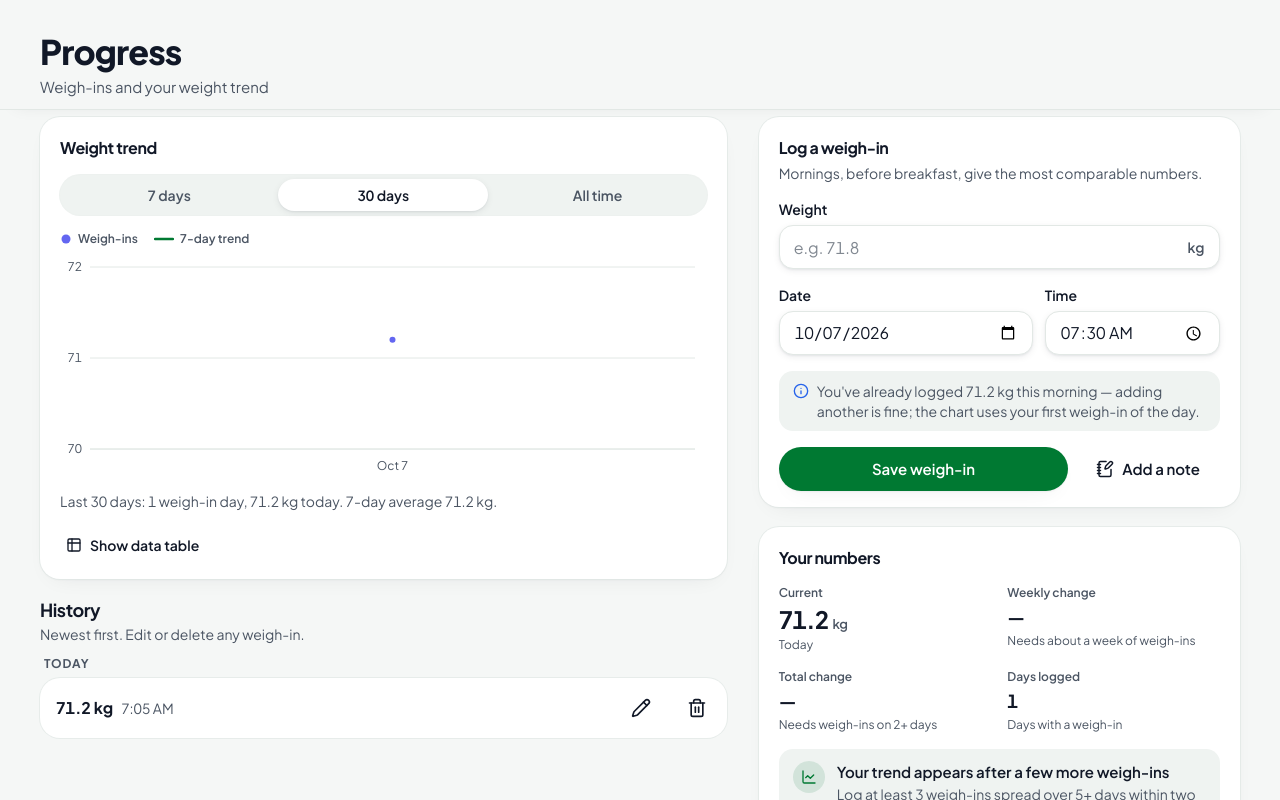
Test: Progress: a second weigh-in on the same day › says so neutrally and marks the weigh-in the chart uses
The image size is (1280, 800).
Check: the heading "Log a weigh-in" is shown, box 779,137 -> 888,158
Check: the text "You've already logged 71.2 kg this morning — adding another is fine; the chart uses your first weigh-in of the day." is shown, box 817,382 -> 1200,420
Type "2026-10-06" into the date field labelled "Date" at (906, 333), box 779,311 -> 1033,355
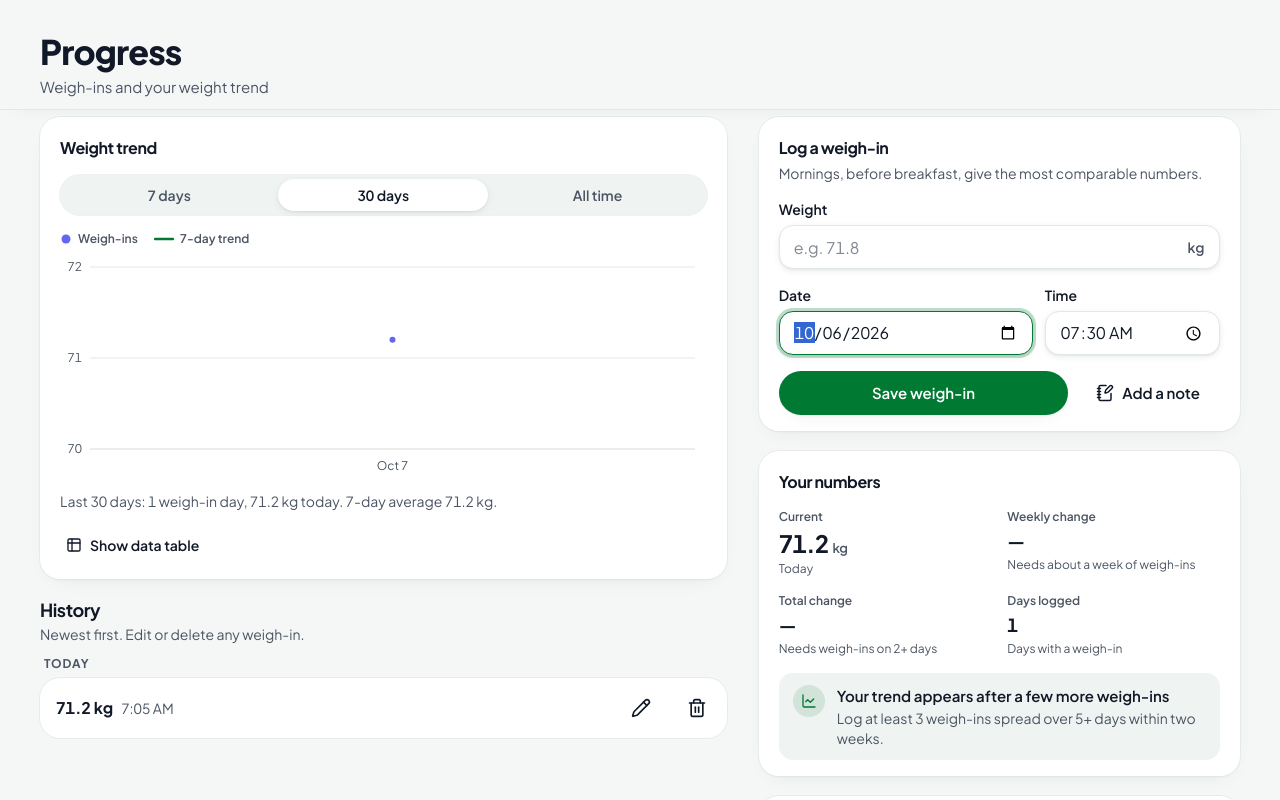
Type "2026-10-07" into the date field labelled "Date" at (906, 333), box 779,311 -> 1033,355
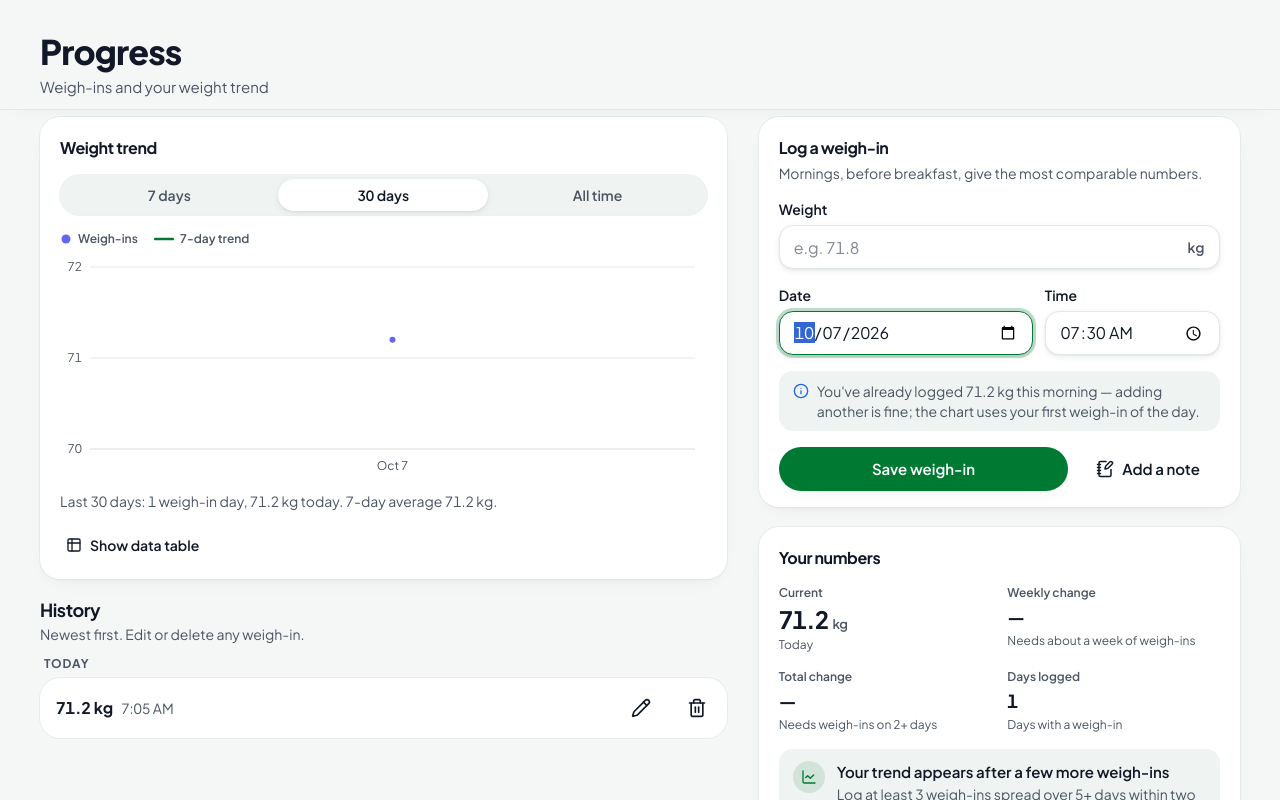
Type "71.6" into the field labelled "Weight" at (999, 247), box 779,225 -> 1220,269
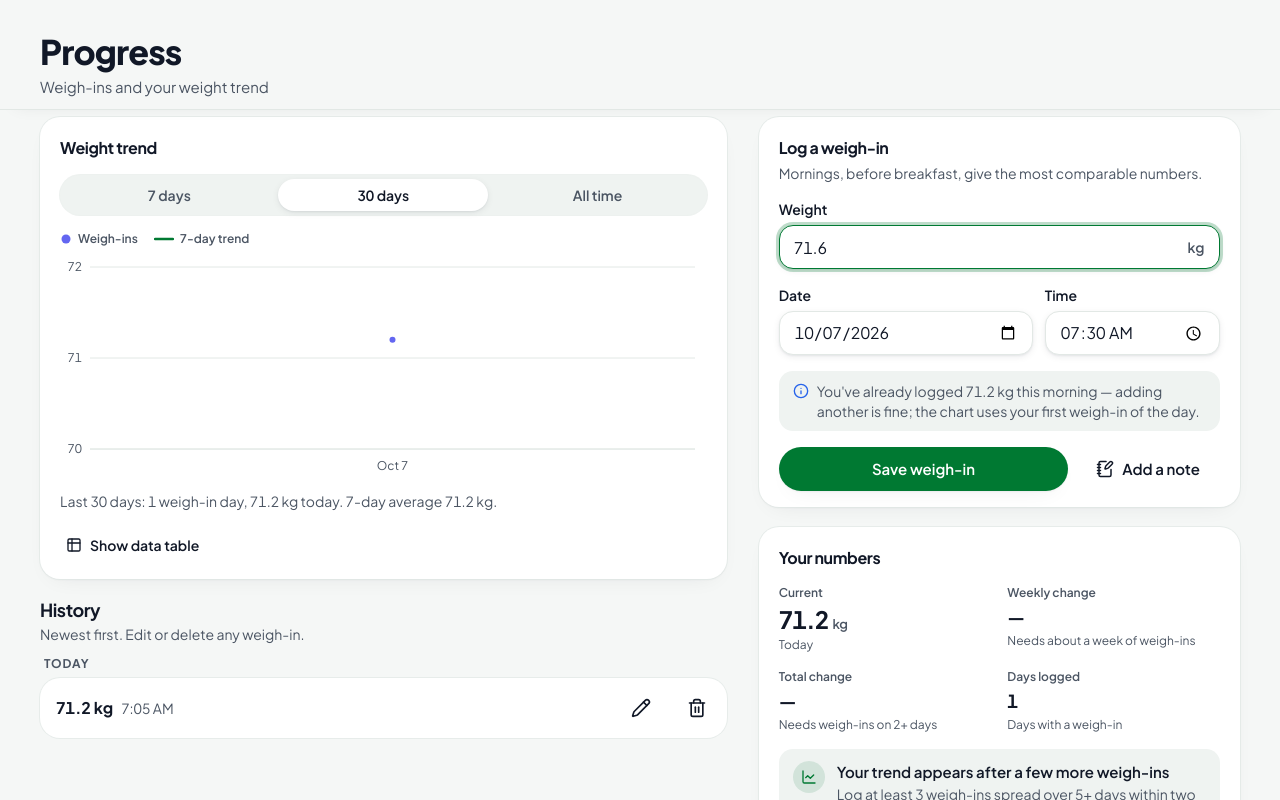
Click the button "Save weigh-in" at (924, 469), box 779,447 -> 1068,491
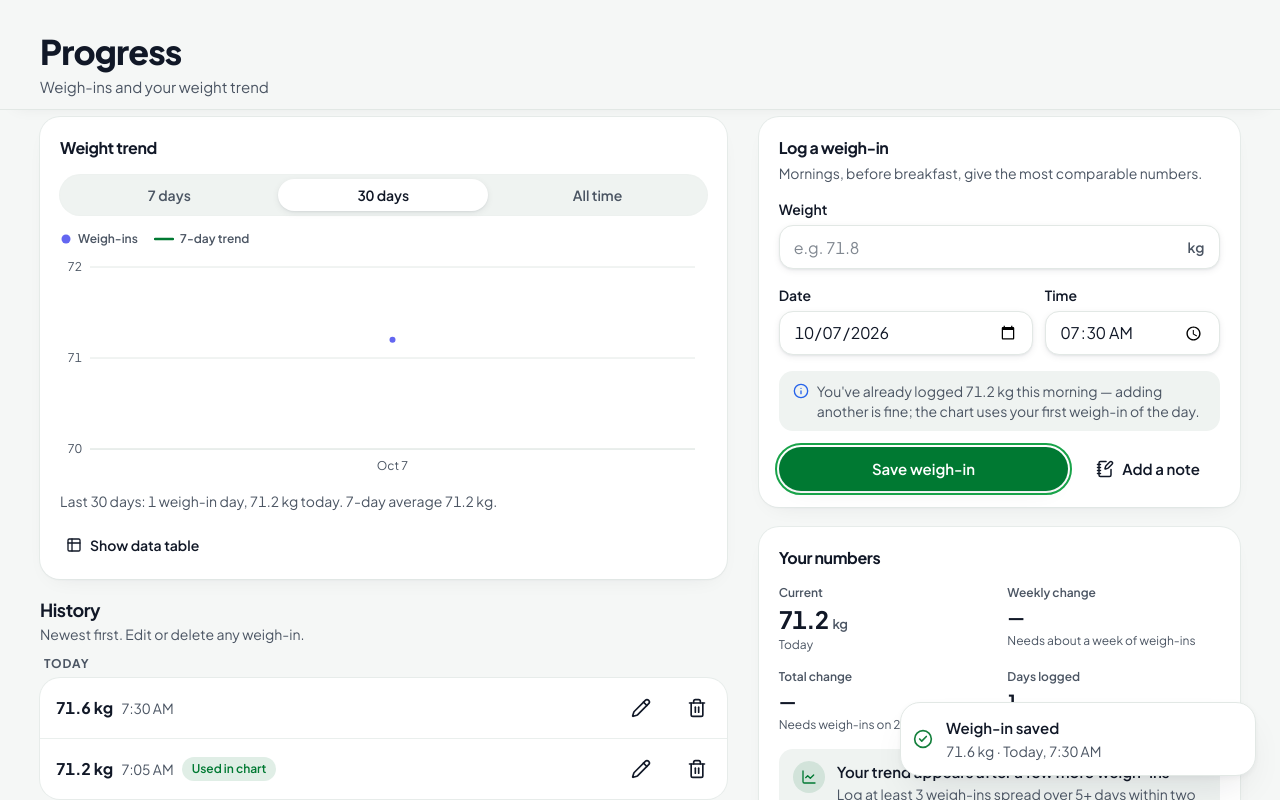
Check: the text "Weigh-in saved" is shown, box 946,718 -> 1059,736
Check: the list item "71.6 kg 7:30 AM" is shown, box 40,678 -> 727,739
Check: the list item "71.2 kg 7:05 AM Used in chart" is shown, box 40,739 -> 727,799
